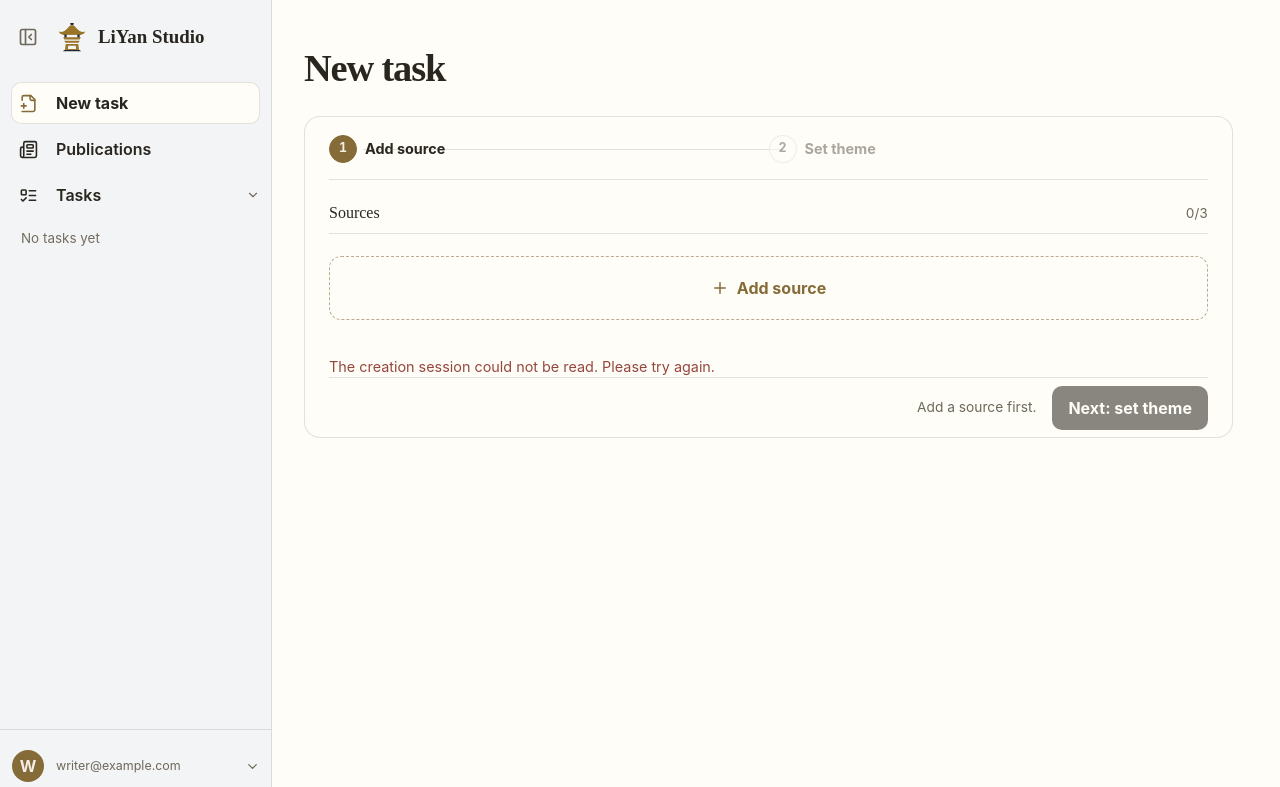
routed workbench shell › renders the signed-out, task, and publication routes in English
This screenshot has width=1280, height=787.
Expected: the navigation bar named "Primary navigation" is shown, [0, 74, 271, 174]
Expected: the heading "New task" is shown, [304, 47, 445, 89]
Click the link "Publications" at (85, 149), box [18, 139, 151, 159]
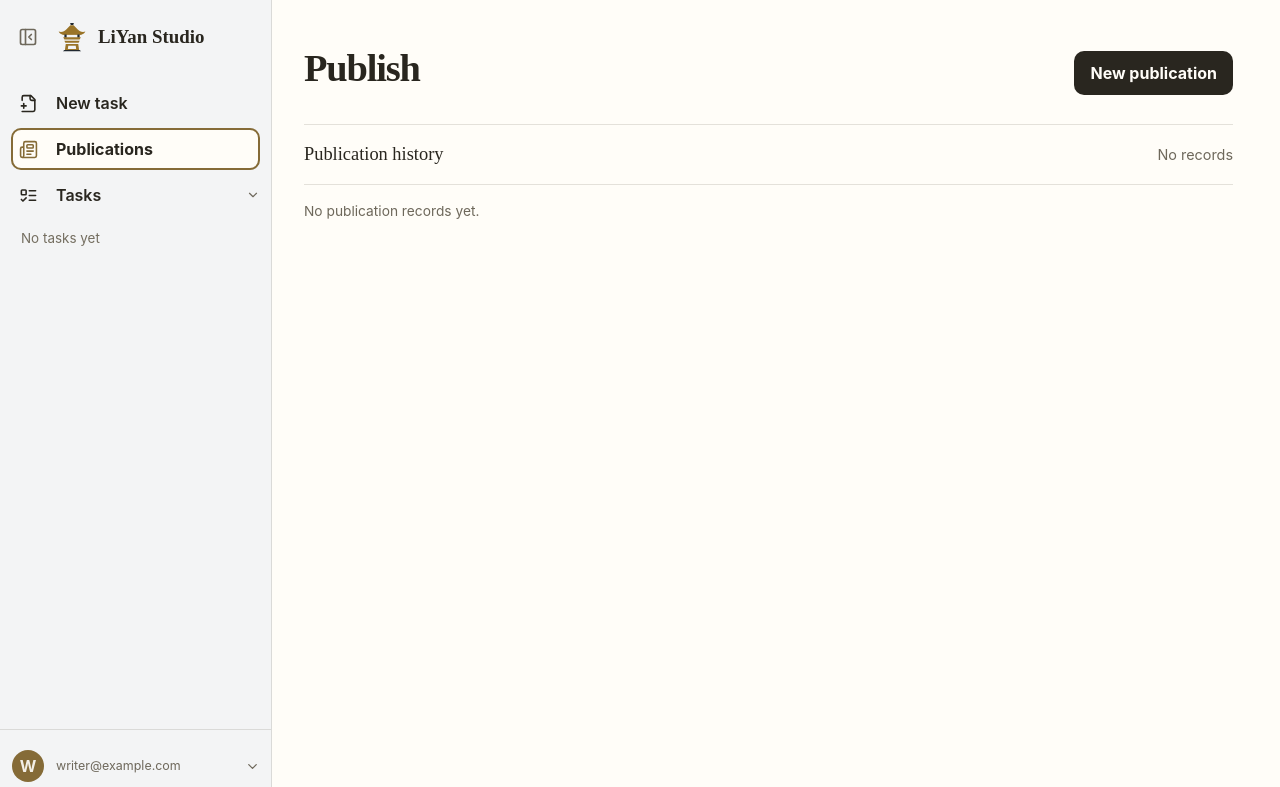
Expected: the heading "Publish" is shown, [304, 40, 420, 98]
Expected: the heading "Publication history" is shown, [304, 141, 444, 168]
Click the button "New publication" at (1154, 73), box [1074, 51, 1233, 95]
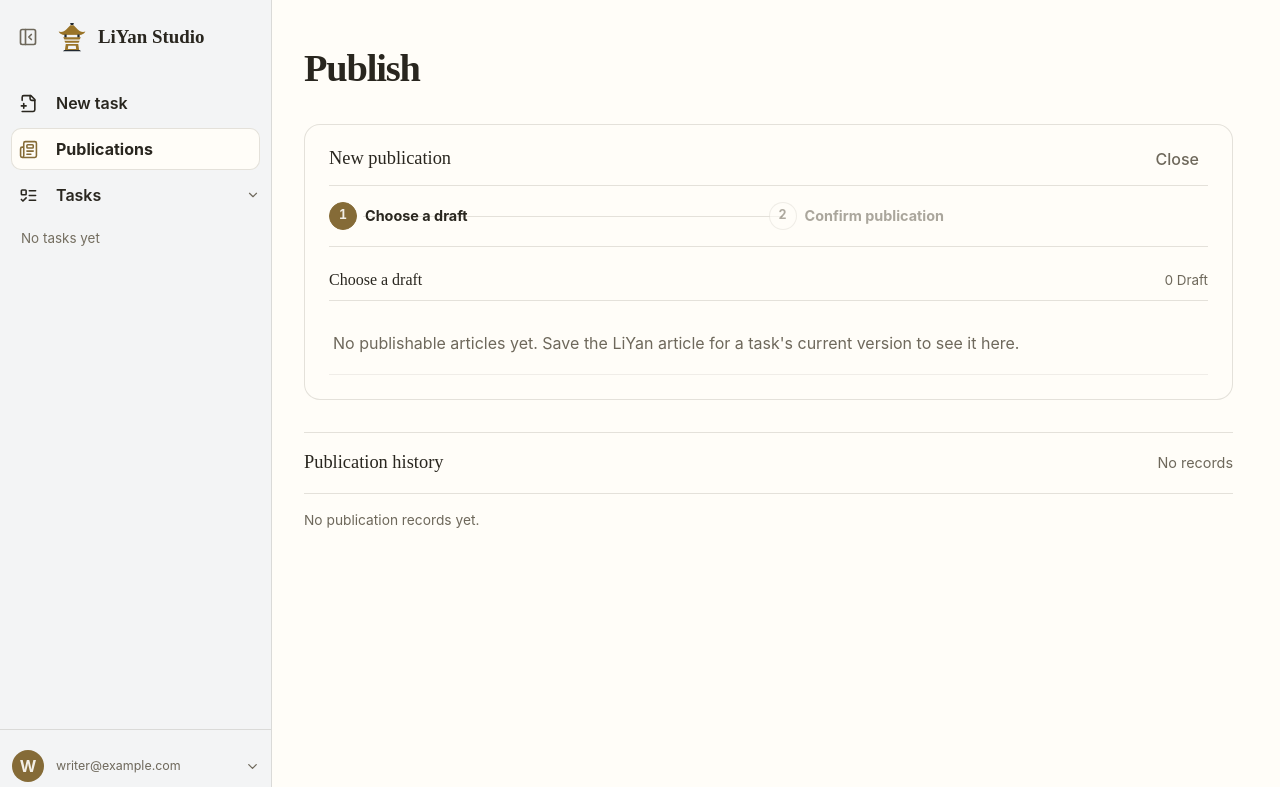
Expected: the heading "Choose a draft" is shown, [329, 268, 422, 292]
